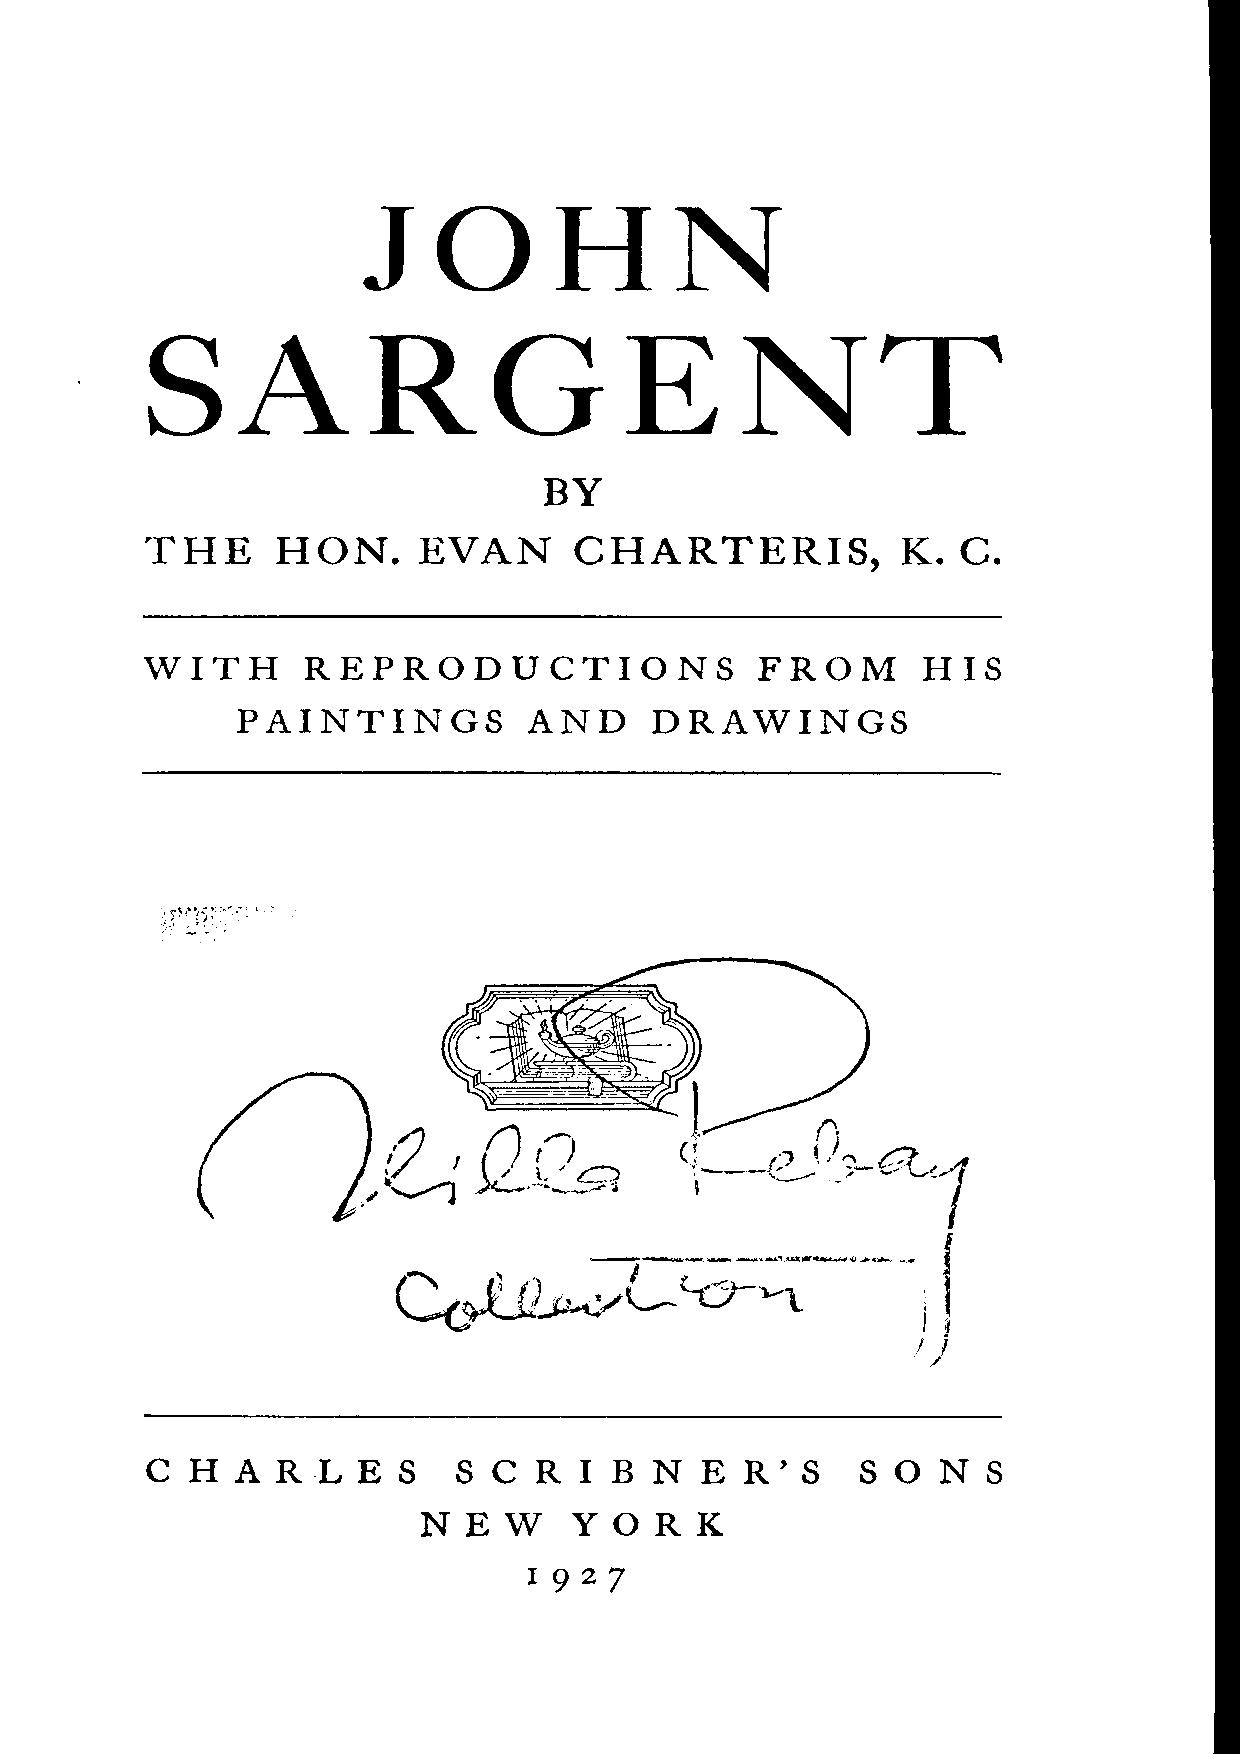author: (141, 474, 1004, 569)
title: (144, 200, 1004, 443)
